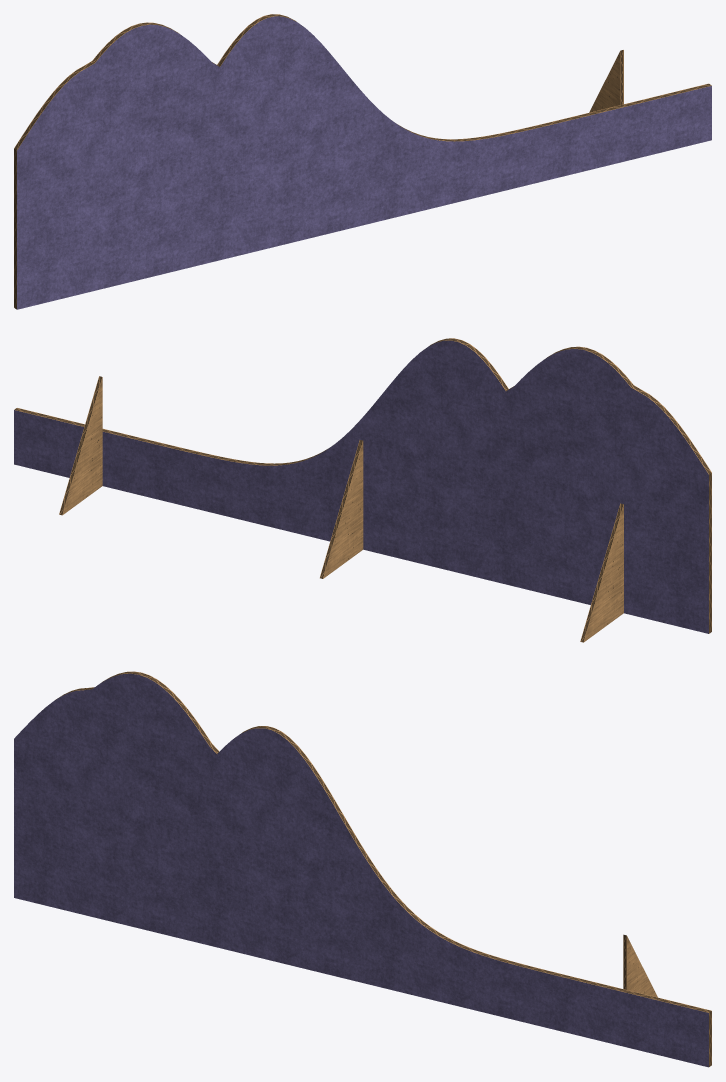
File: hill_backdrop_01_dusk.gltf
3 views of the same model, one above another, from view 1: azimuth 30°, elevation 25°; view 2: azimuth 150°, elevation 25°; view 3: azimuth 330°, elevation 25° (orthographic).
Parts seen in each view (by area): view 1: hill_backdrop_01_dusk; view 2: hill_backdrop_01_dusk; view 3: hill_backdrop_01_dusk.
Part boxes in pixels (x1,y1,x2,y2): hill_backdrop_01_dusk: [14, 14, 711, 309]; hill_backdrop_01_dusk: [14, 338, 711, 642]; hill_backdrop_01_dusk: [14, 671, 711, 1067].
Bounding box in the file's own units: 8 × 2.79 × 0.86.
Materials: 3 (3 with a texture image).
